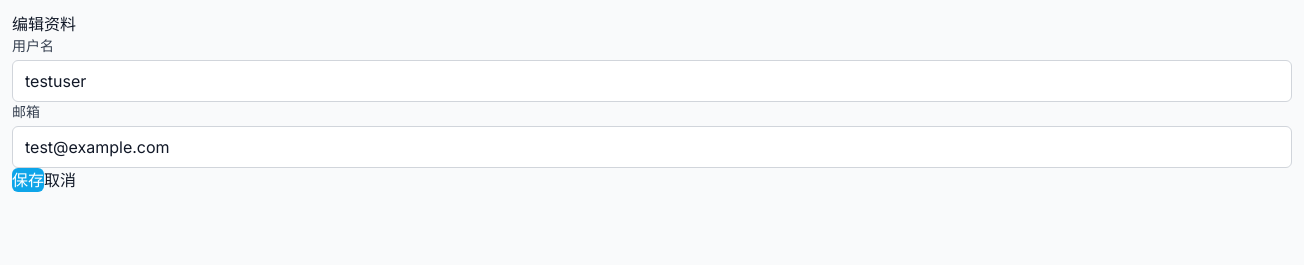
ProfileForm - 提交失败场景 › 应该处理邮箱已存在的错误 (409)
Replace the text in the field labelled "邮箱" with "existing@example.com" at coordinates (652, 147), box [12,126,1292,168]
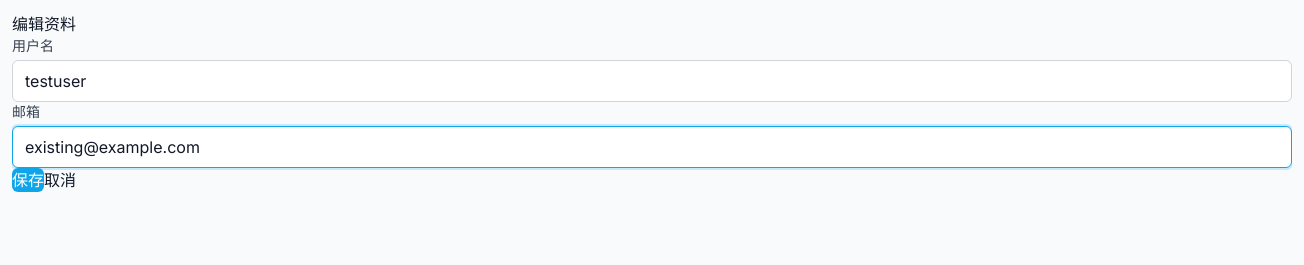
Click the button "保存" at coordinates (28, 180), box [12,168,44,192]
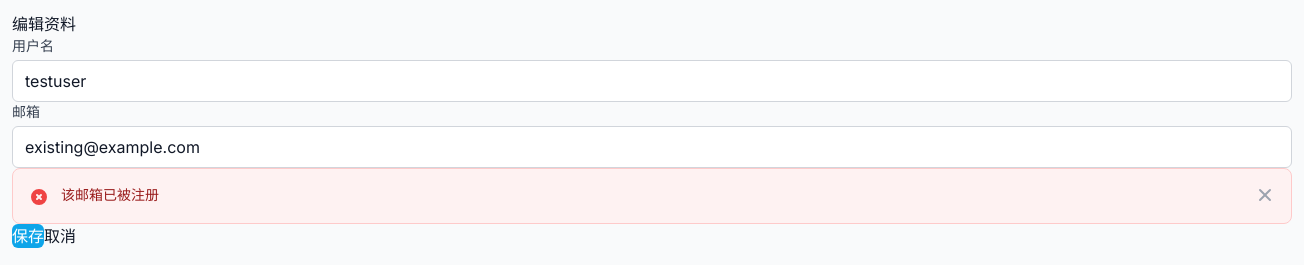
Now the text "该邮箱已被注册" is shown, box [61,186,159,203]
